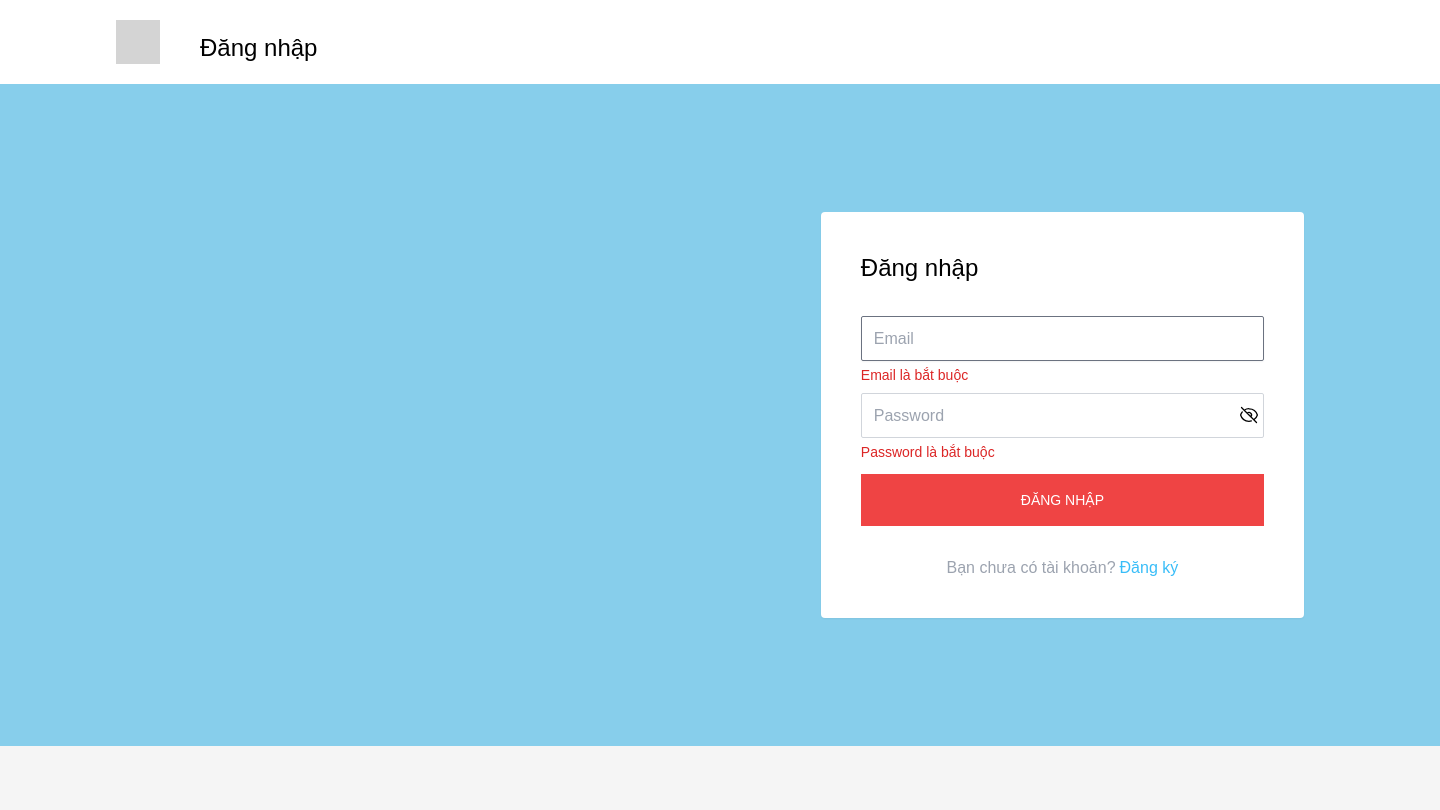
Scenario: Login › Hiển thị lỗi required khi không nhập gì
Type "test@mail" into the field with placeholder "Email" at (1062, 339), box [861,316,1264,361]
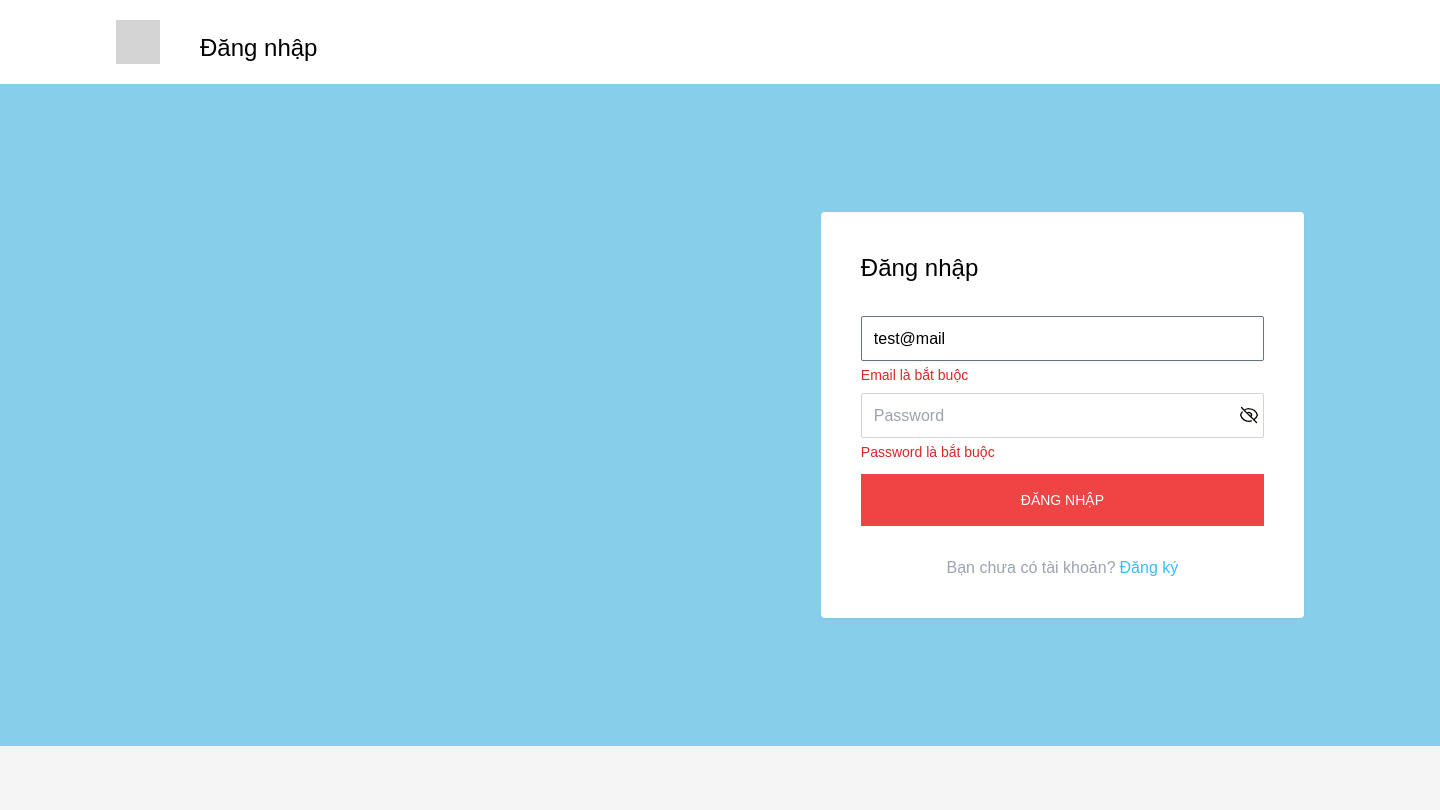
Type "123" into the password field with placeholder "Password" at (1062, 416), box [861,393,1264,438]
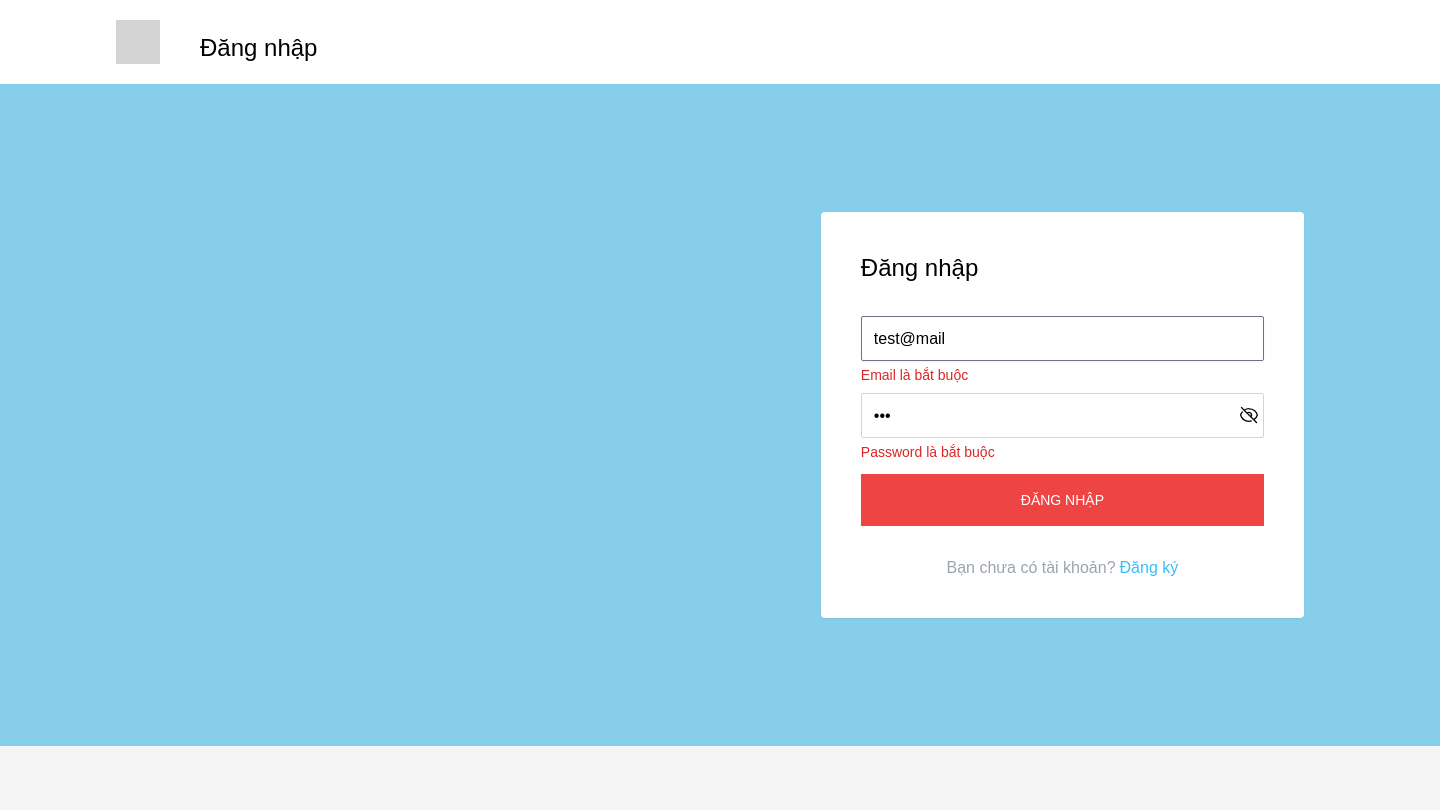
Submit the form from the submit button, box [861,474,1264,526]
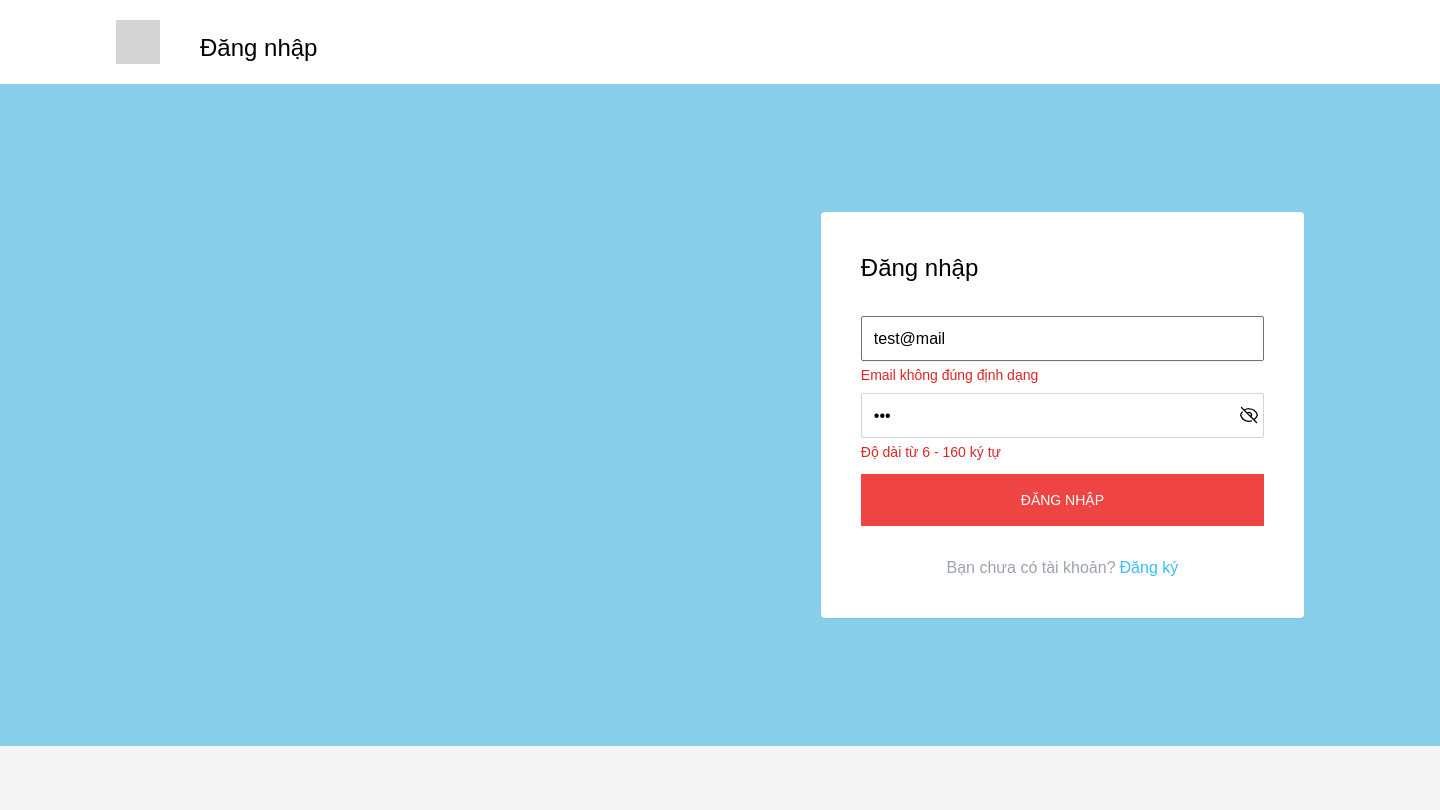
Result: the text "Email không đúng định dạng" is shown at [861,367,1038,383]
Result: the text "Độ dài từ 6 - 160 ký tự" is shown at [861,444,1001,460]
